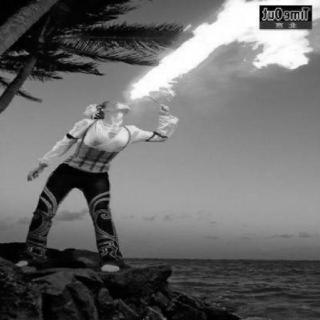Fire: (126, 0, 319, 102)
